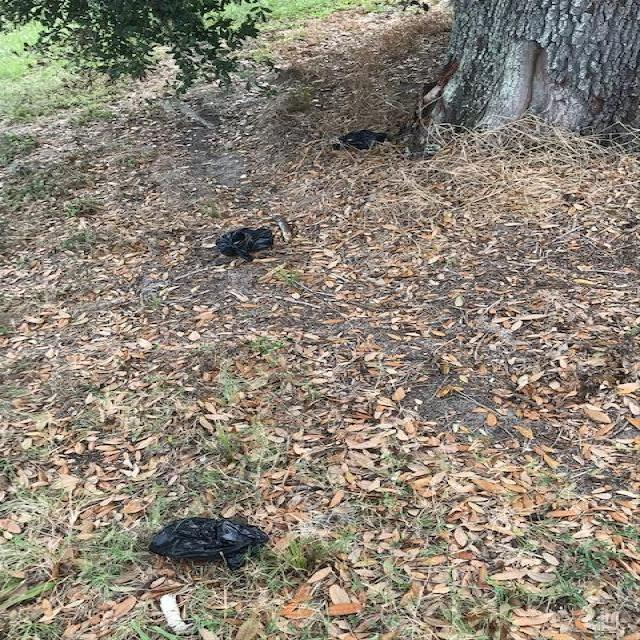litter: (303, 273, 349, 317), (172, 188, 201, 229)
